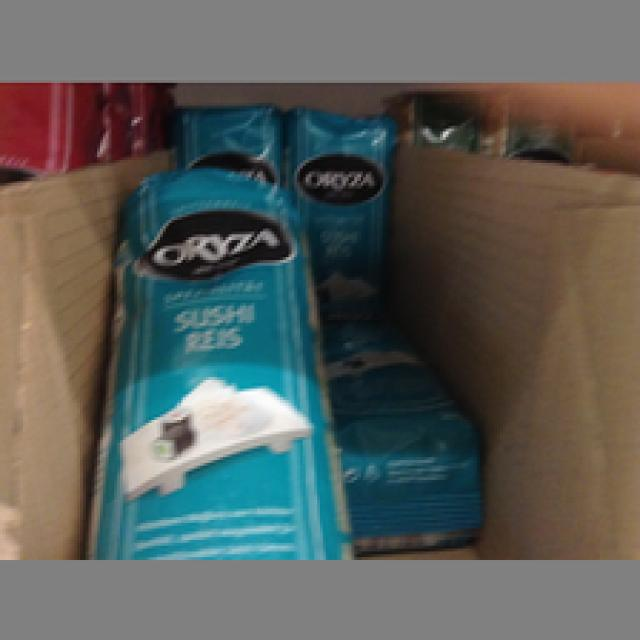groceries: (80, 163, 349, 557), (314, 308, 483, 548), (283, 103, 394, 311)
